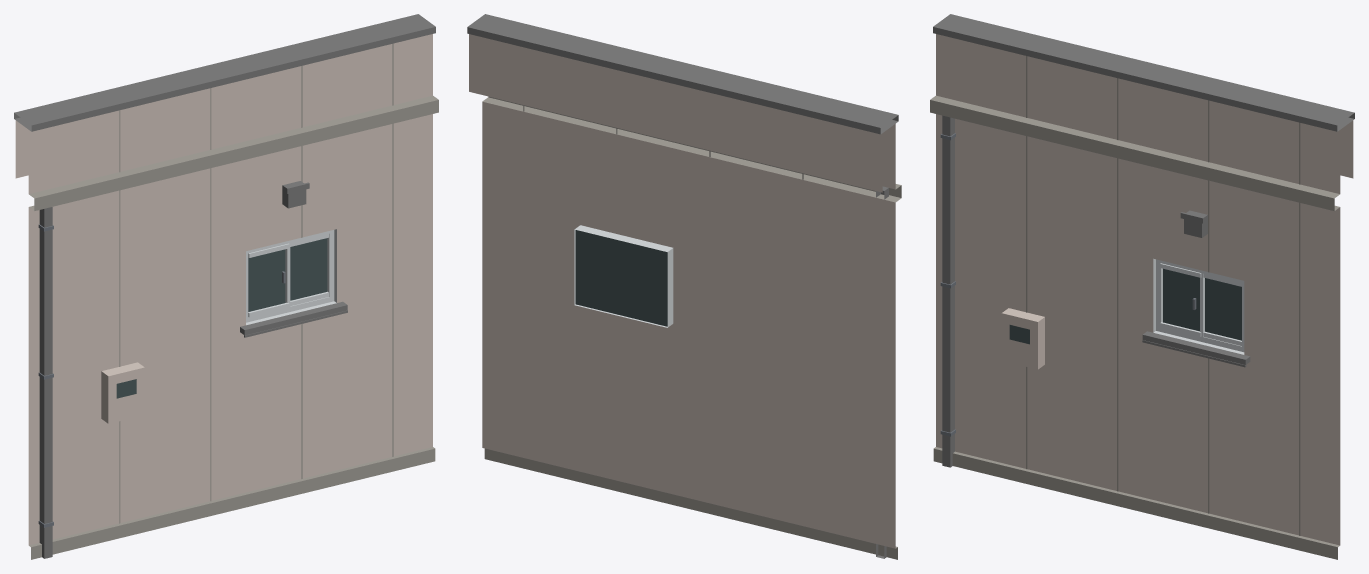
The model's file is base-w4_close.fbx.
3 renders of one model, left to right at view 1: azimuth 30°, elevation 25°; view 2: azimuth 150°, elevation 25°; view 3: azimuth 330°, elevation 25°, orthographic. The views are drawn at different scales.
Parts seen in each view (by area): view 1: a2003/0/base-w4_close; view 2: a2003/0/base-w4_close; view 3: a2003/0/base-w4_close.
Part boxes in pixels (bbox=[...]): a2003/0/base-w4_close: bbox=[14, 14, 438, 559]; a2003/0/base-w4_close: bbox=[467, 14, 901, 559]; a2003/0/base-w4_close: bbox=[930, 14, 1354, 559].
Size of the model in its own units: 4 by 4.11 by 0.371.
